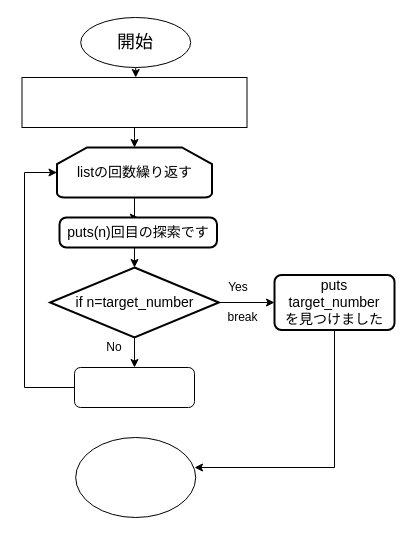
This 413x535 diagram has some shape labels left out. The shapes that lost their labels are listed below. From the top down, each one's box as (x1, y1, x2, y2) in pixels, then its label:
(21, 76, 247, 128): list変数を定義 1～100 target_name定数に42を置く （今回探す番号）
(74, 366, 194, 408): n+1
(75, 436, 196, 518): 終了
